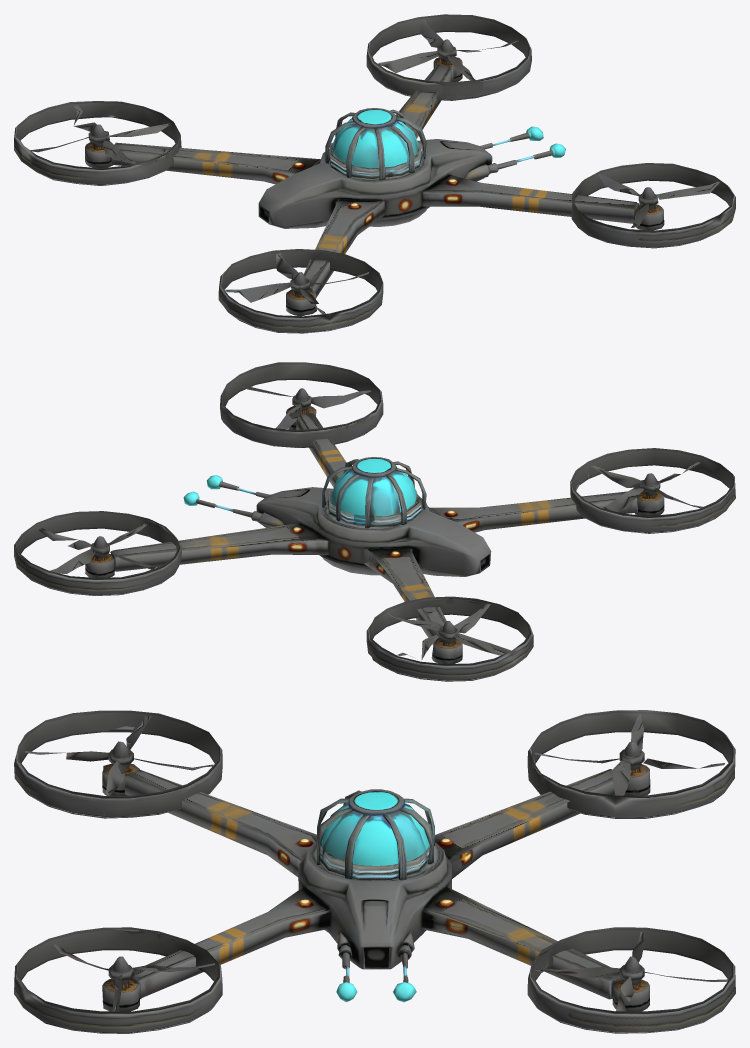
The model's file is enemy_interceptor.glb.
The picture shows the model from 3 angles, top to bottom: view 1: azimuth 30°, elevation 25°; view 2: azimuth 150°, elevation 25°; view 3: azimuth 270°, elevation 25°; orthographic projection. The views are drawn at different scales.
Parts seen in each view (by area): view 1: geometry_0; view 2: geometry_0; view 3: geometry_0.
Boxes of the visible parts, x1,y1,x2,y2 form: geometry_0: (14,14,735,333); geometry_0: (14,362,735,681); geometry_0: (14,710,735,1033).
Size of the model in its own units: 0.9478 by 0.1641 by 0.9473.
1 material, 1 textured.
